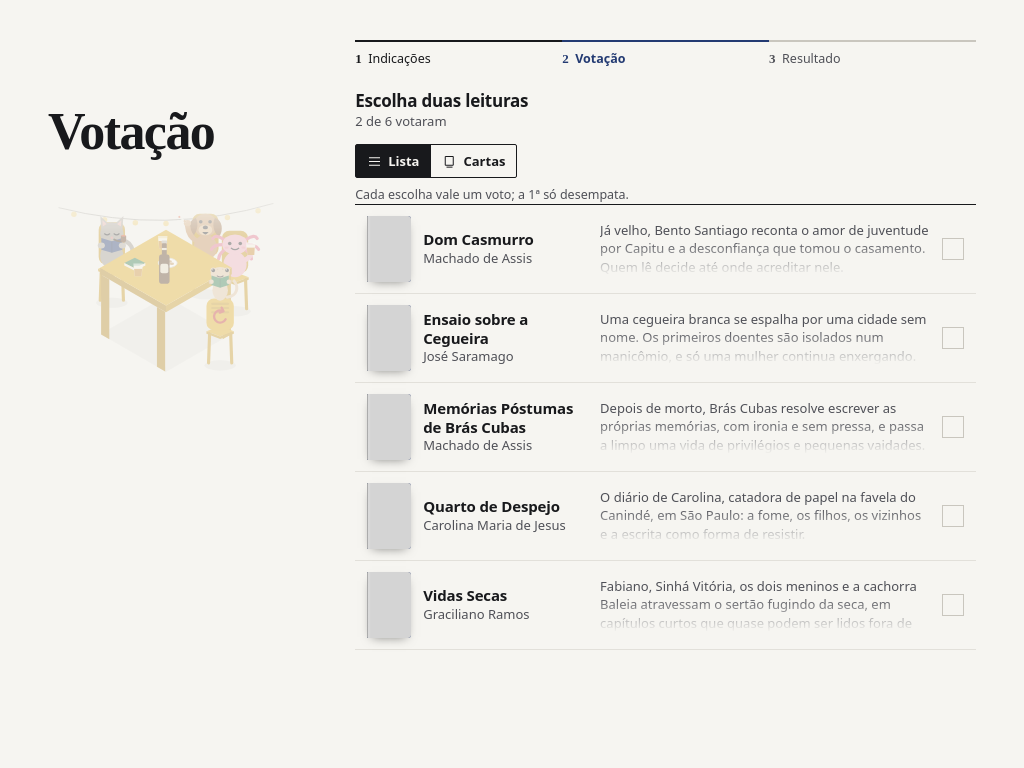
Scenario: ballot, list view › shows each synopsis and opens its card when tapped, without choosing it
Click the button with aria-label "Ler a sinopse de Quarto de Despejo" at (765, 516), box [600,488,930,543]
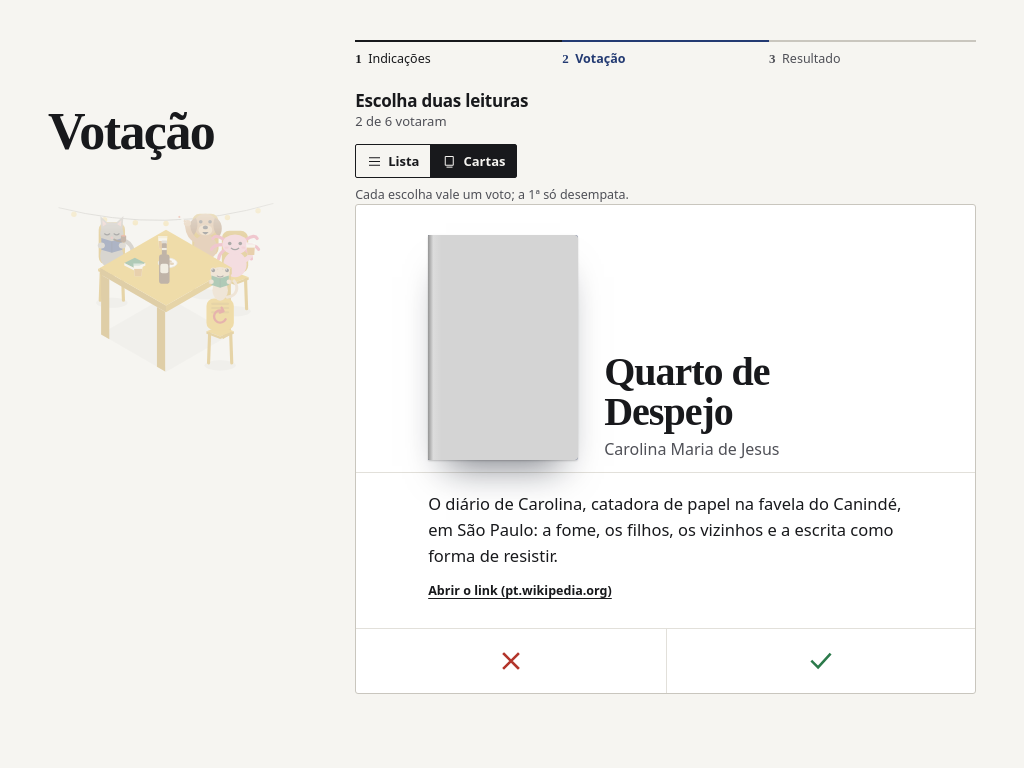
Expected: the element named "Leitura 4 de 5: Quarto de Despejo" is shown, [355,204,976,694]
